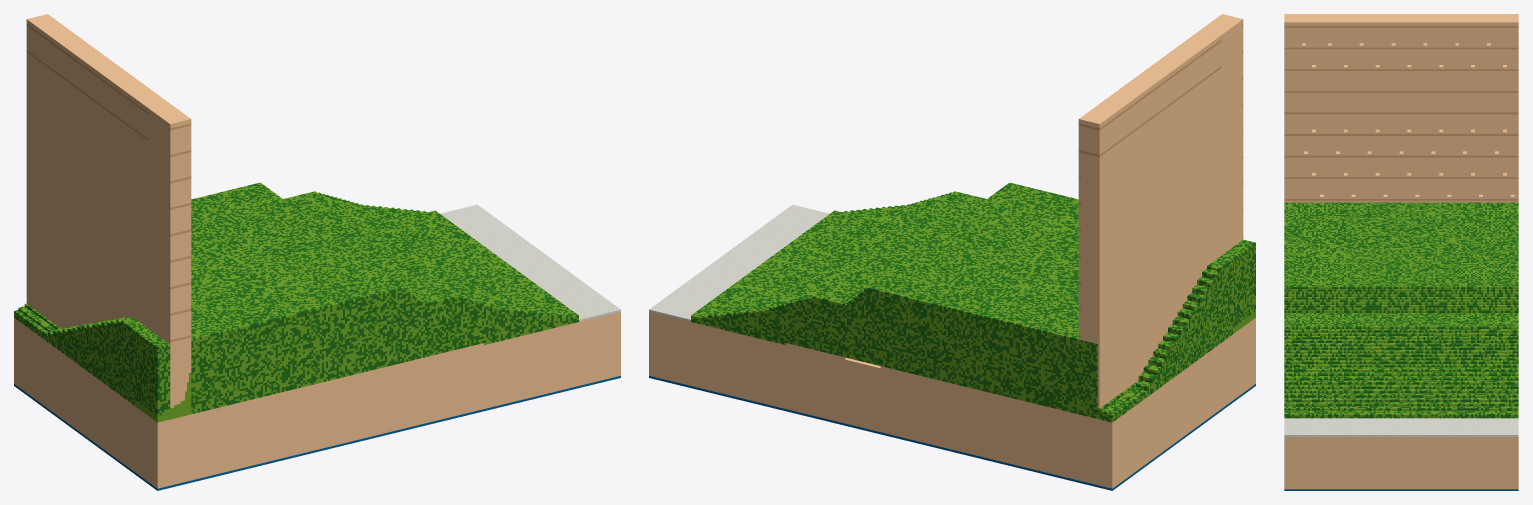
File: castelloVillafranca-9.obj
3 renders of one model, left to right at view 1: azimuth 30°, elevation 25°; view 2: azimuth 150°, elevation 25°; view 3: azimuth 270°, elevation 25°, orthographic. The views are drawn at different scales.
Bounding box in the file's own units: 22 × 16.5 × 11.8.
Materials: 1 (1 with a texture image).
